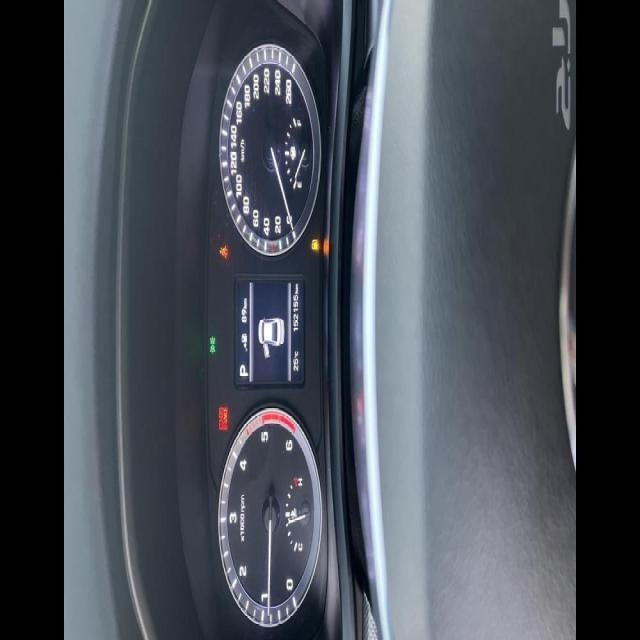Seat Belt: (218, 245, 229, 258)
